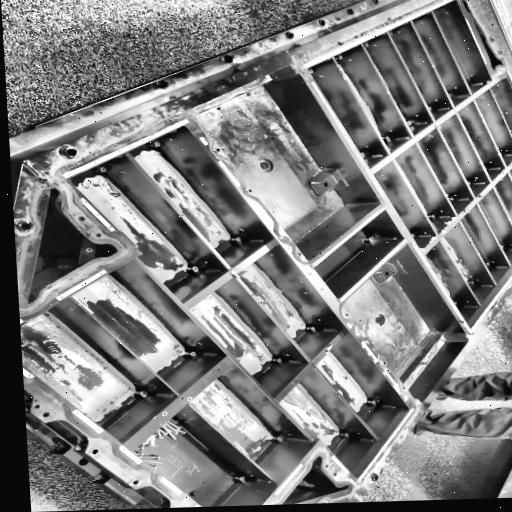b_casing: (12, 0, 512, 508)
